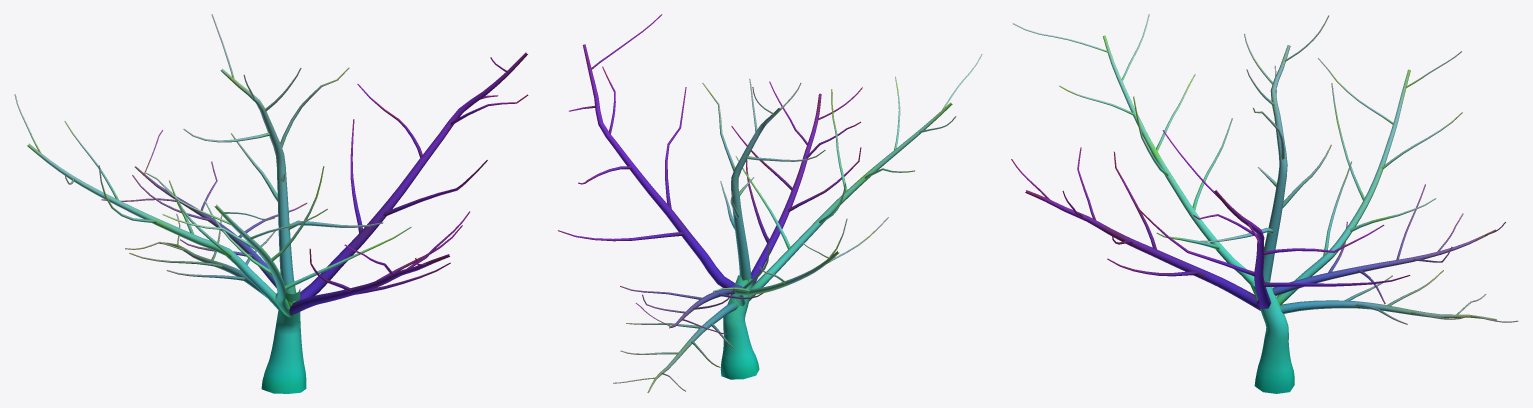
Rendered from sakura-grove-a.glb.
3 views of the same model, side by side, from view 1: azimuth 30°, elevation 25°; view 2: azimuth 150°, elevation 25°; view 3: azimuth 270°, elevation 25° (orthographic). The views are drawn at different scales.
Visible parts, largest first — view 1: bark; view 2: bark; view 3: bark.
Part boxes in pixels (x1=…): bark: x1=14, y1=14, x2=528, y2=393; bark: x1=558, y1=14, x2=982, y2=392; bark: x1=1011, y1=14, x2=1518, y2=393.
Bounding box in the file's own units: 10.14 × 8.65 × 11.36.
